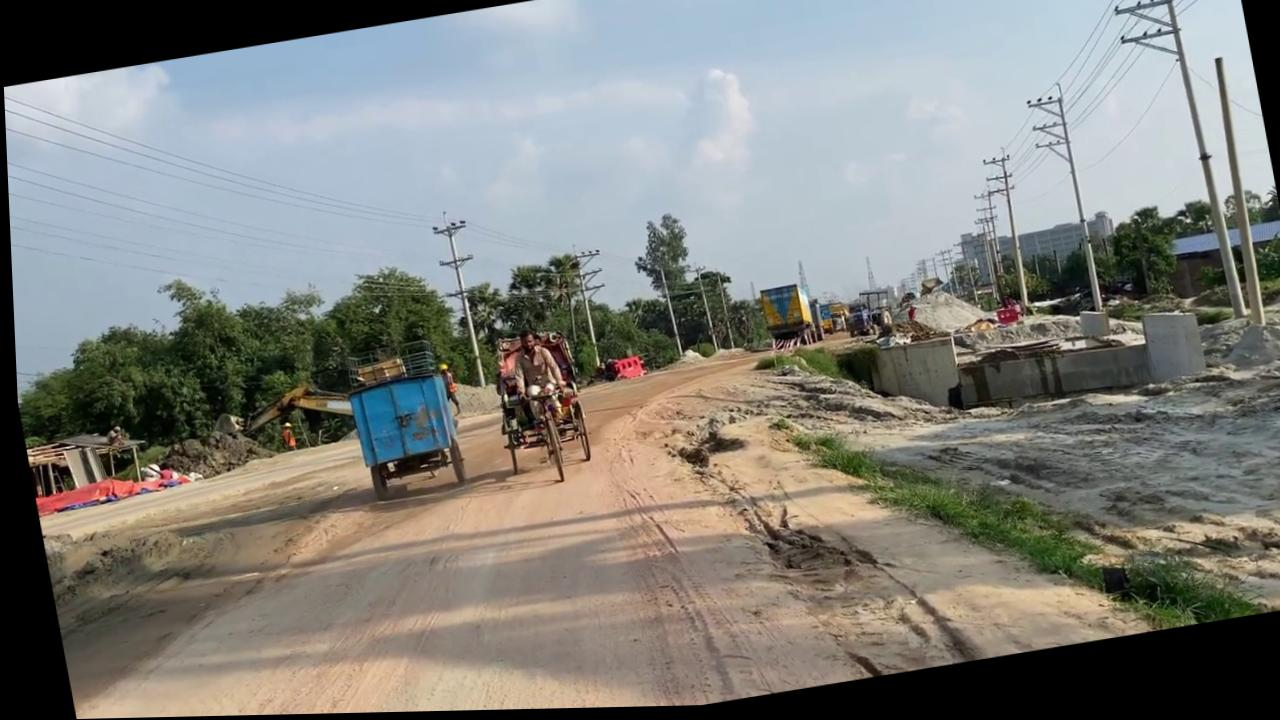Broken-road: (20, 296, 1150, 720)
Construction-barrier: (597, 354, 645, 384)
Obstacle: (858, 293, 1206, 433)
Pole: (1202, 60, 1269, 331)
Railroad-crossing: (487, 332, 586, 474)
Traffic-sign: (622, 211, 705, 365)
Tree: (753, 272, 893, 357), (836, 291, 891, 343), (815, 303, 849, 338)
